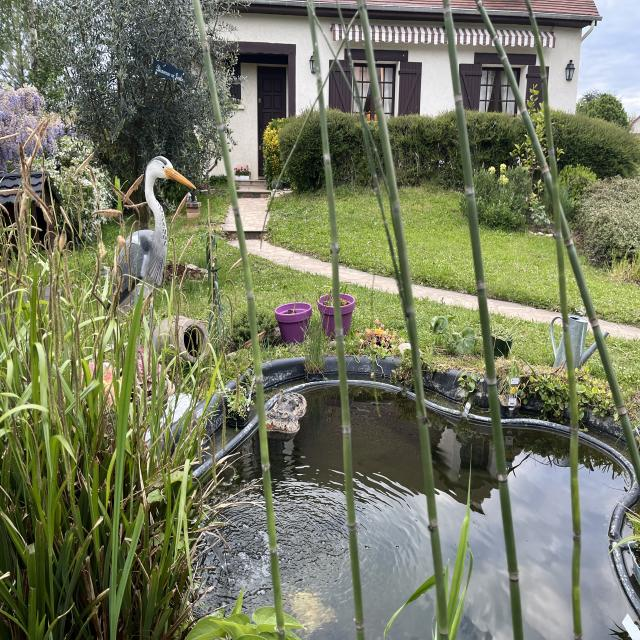Heron: (104, 151, 202, 346)
